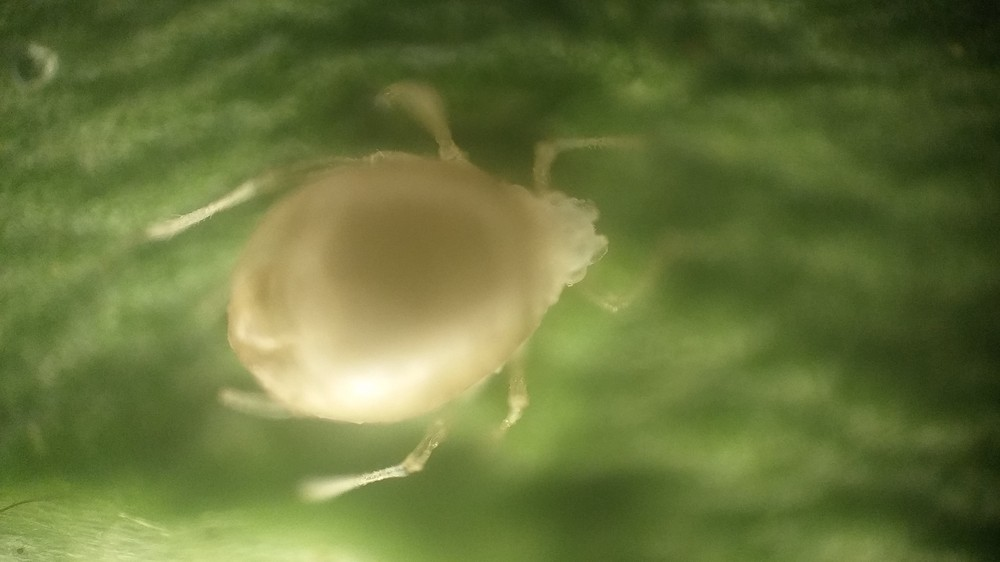Pulgon: (138, 70, 706, 520)
